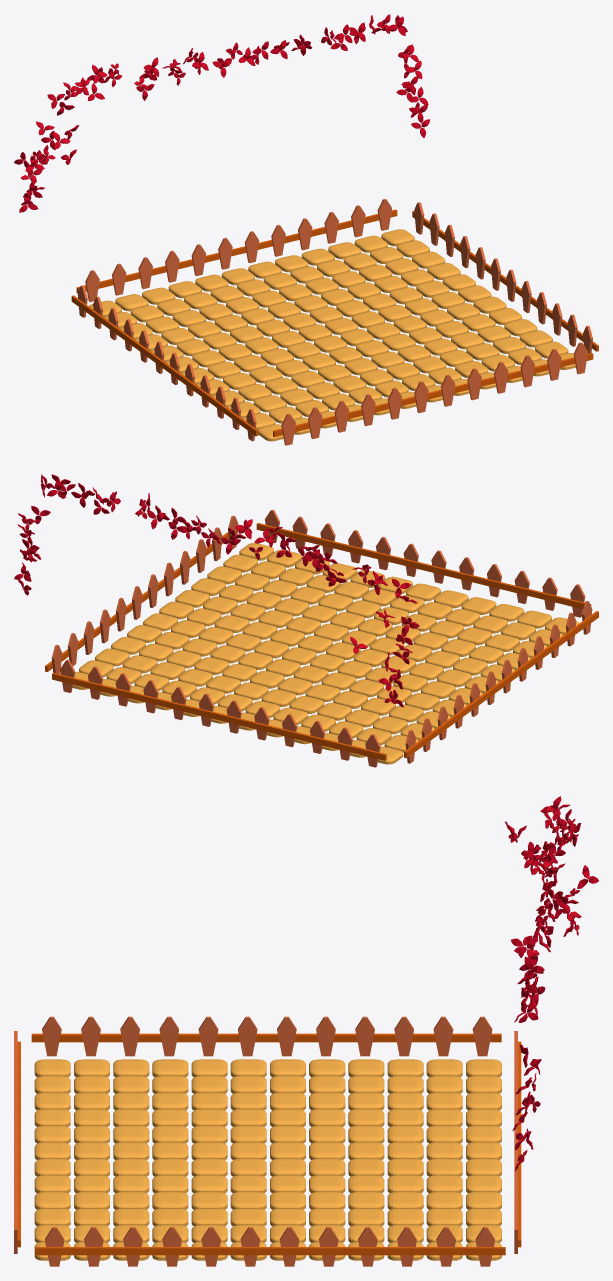
Rendered from fieldFall.glb.
The picture shows the model from 3 angles, top to bottom: view 1: azimuth 30°, elevation 25°; view 2: azimuth 150°, elevation 25°; view 3: azimuth 270°, elevation 25°; orthographic projection. The views are drawn at different scales.
Parts seen in each view (by area): view 1: palyfield.001, fenceBar.006, fenceBar.007, fenceBar.005, fenceBar.004; view 2: palyfield.001, fenceBar.007, fenceBar.006, fenceBar.005, fenceBar.004; view 3: palyfield.001, fenceBar.005, fenceBar.004, fenceBar.007, fenceBar.006.
Boxes of the visible parts, x1,y1,x2,y2 form: palyfield.001: (89,229,575,441); fenceBar.006: (273,342,593,445); fenceBar.007: (76,198,397,301); fenceBar.005: (71,285,258,441); fenceBar.004: (412,202,598,353); palyfield.001: (72,543,579,764); fenceBar.007: (52,659,386,767); fenceBar.006: (256,509,591,617); fenceBar.005: (404,601,598,763); fenceBar.004: (45,515,238,674); palyfield.001: (34,1059,501,1260); fenceBar.005: (31,1016,501,1056); fenceBar.004: (35,1227,505,1266); fenceBar.007: (514,1031,521,1253); fenceBar.006: (14,1031,20,1253).
Size of what is drawn, in the model's own units: 14.73 by 7.79 by 14.93.
